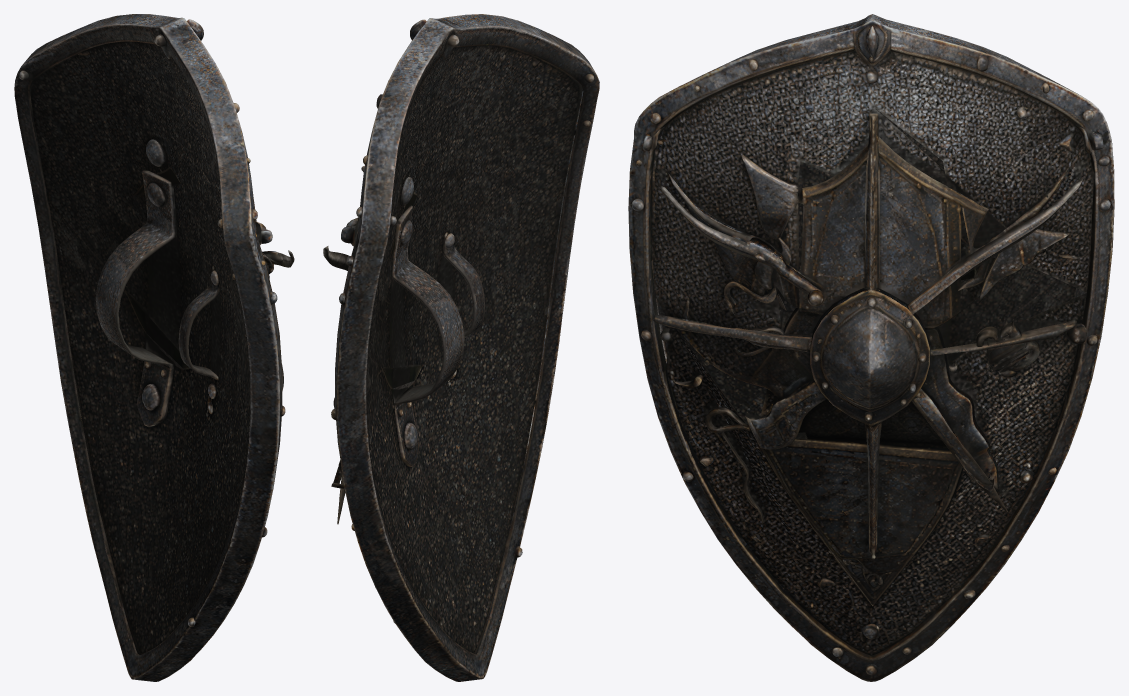
The model's file is kite_shield.glb.
The picture shows the model from 3 angles, left to right: view 1: azimuth 30°, elevation 25°; view 2: azimuth 150°, elevation 25°; view 3: azimuth 270°, elevation 25°; orthographic projection. The views are drawn at different scales.
Visible parts, largest first — view 1: tripo_node_38c05592-4926-4067-8f90-faaec141a02b; view 2: tripo_node_38c05592-4926-4067-8f90-faaec141a02b; view 3: tripo_node_38c05592-4926-4067-8f90-faaec141a02b.
Boxes of the visible parts, x1,y1,x2,y2 form: tripo_node_38c05592-4926-4067-8f90-faaec141a02b: [14, 14, 294, 681]; tripo_node_38c05592-4926-4067-8f90-faaec141a02b: [323, 14, 599, 681]; tripo_node_38c05592-4926-4067-8f90-faaec141a02b: [628, 14, 1114, 681].
Bounding box in the file's own units: 0.229 × 0.9995 × 0.6509.
1 material, 1 textured.
